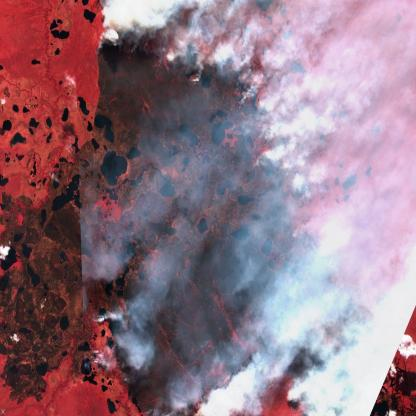fire: (95, 0, 317, 206), (192, 349, 297, 416), (85, 302, 129, 387)
